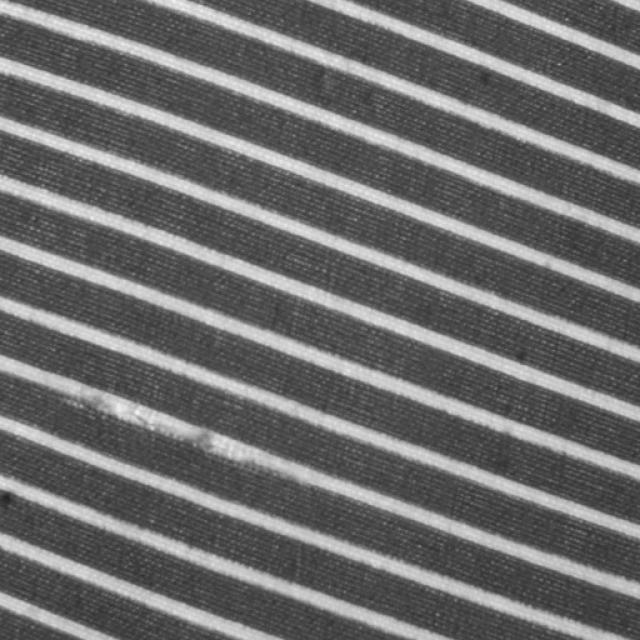Thread-Defect: (51, 374, 336, 489)
